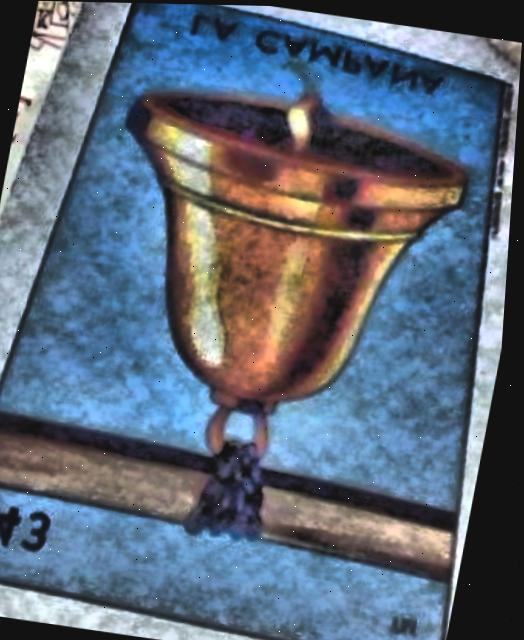La Campana: (0, 3, 508, 640)
